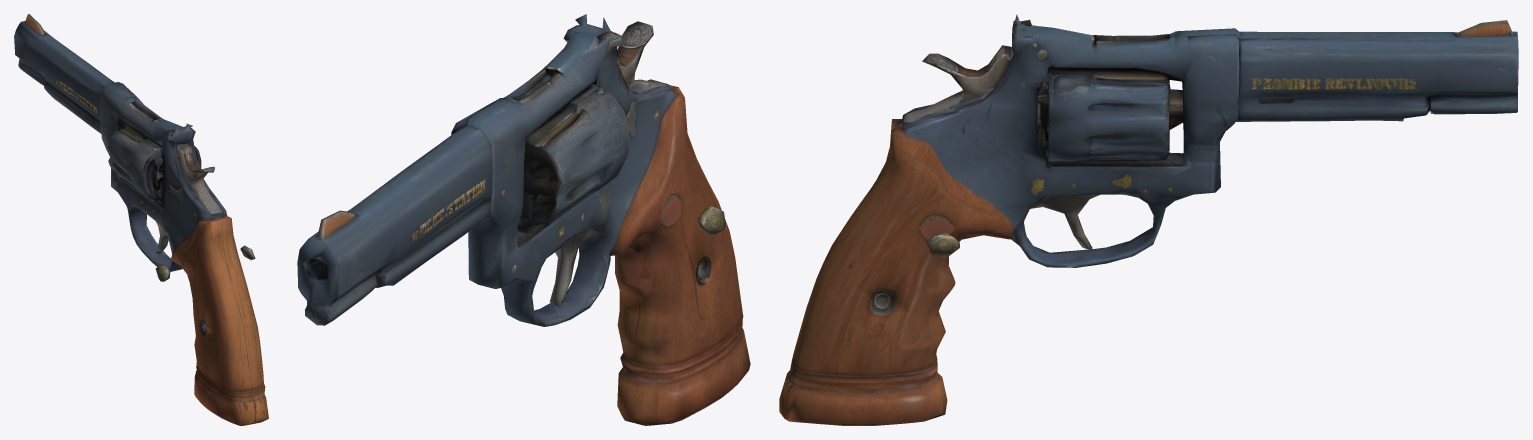
The model's file is pistol.glb.
3 views of the same model, side by side, from view 1: azimuth 30°, elevation 25°; view 2: azimuth 150°, elevation 25°; view 3: azimuth 270°, elevation 25° (orthographic). The views are drawn at different scales.
Bounding box in the file's own units: 0.4661 × 1.17 × 2.
1 material, 1 textured.
